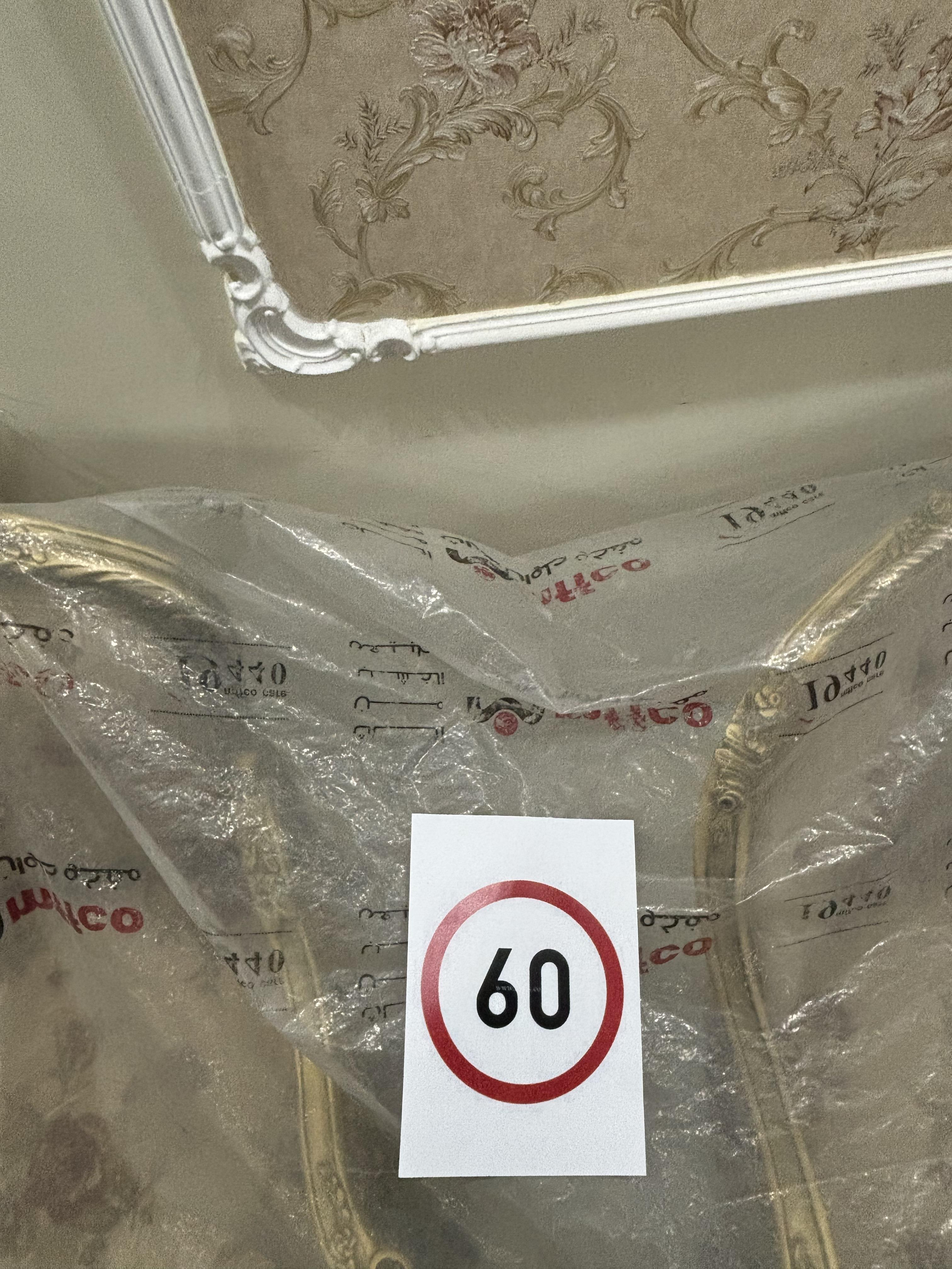60-Speed: (422, 879, 629, 1115)
